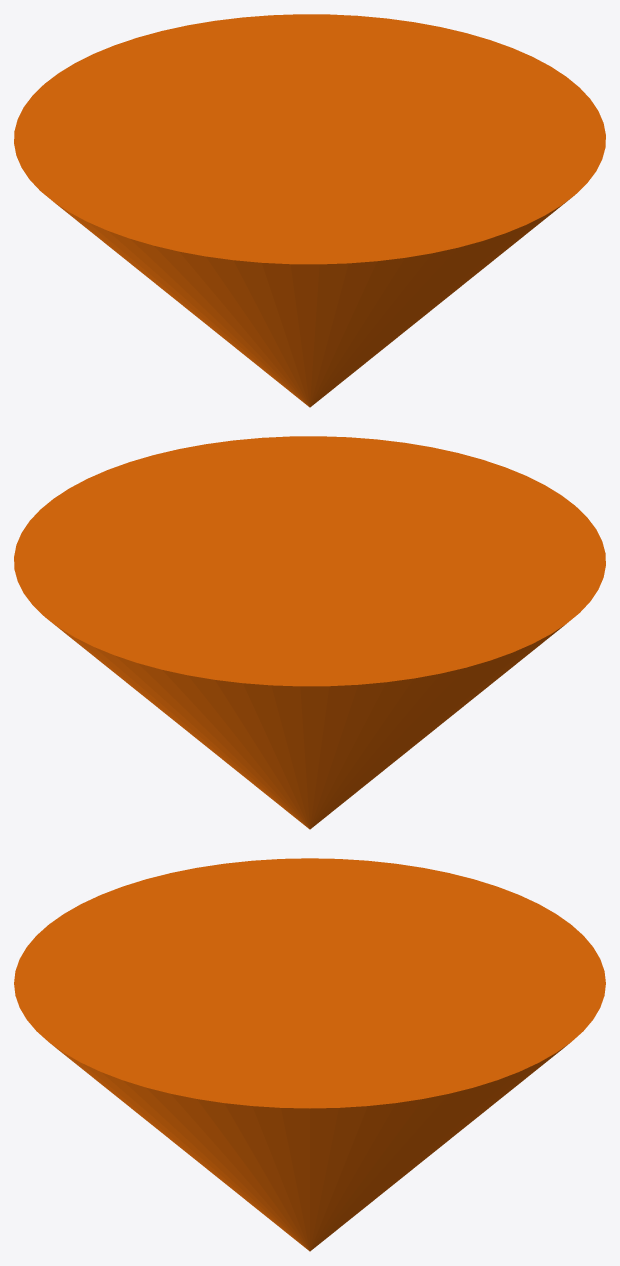
3 renders of one model, top to bottom at view 1: azimuth 30°, elevation 25°; view 2: azimuth 150°, elevation 25°; view 3: azimuth 270°, elevation 25°, orthographic.
Parts seen in each view (by area): view 1: Cone.001; view 2: Cone.001; view 3: Cone.001.
Part boxes in pixels (x1,y1,x2,y2): Cone.001: [14, 14, 605, 407]; Cone.001: [14, 436, 605, 829]; Cone.001: [14, 858, 605, 1251].
Bounding box in the file's own units: 2 × 2 × 1.
